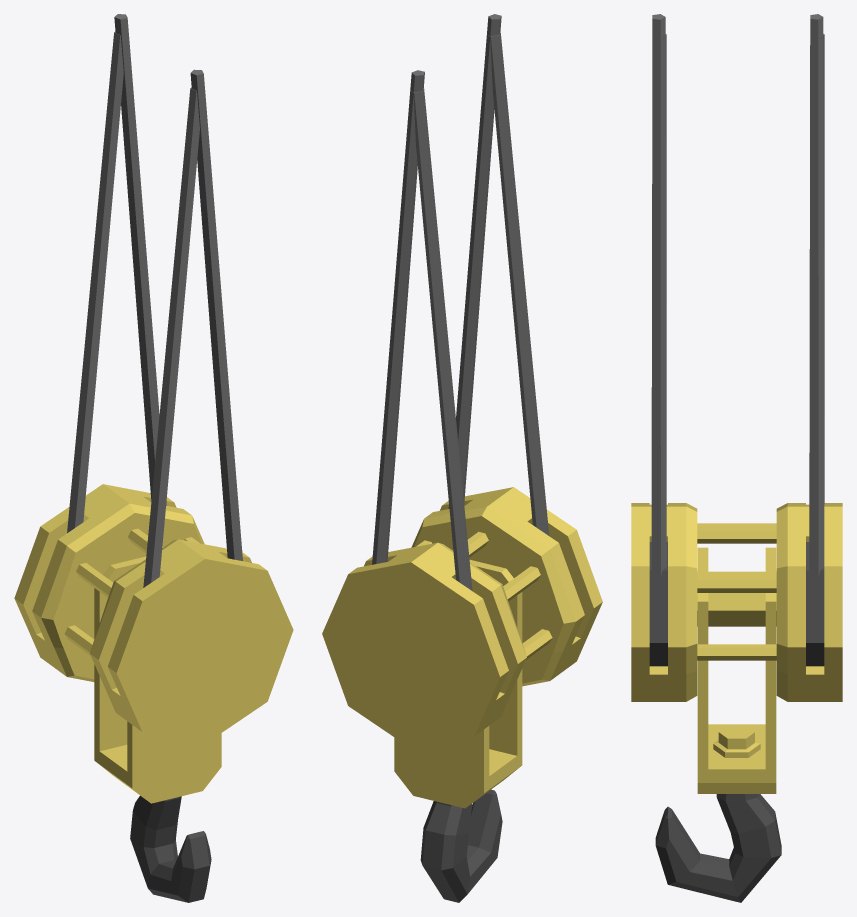
File: Cranehook.fbx
3 views of the same model, side by side, from view 1: azimuth 30°, elevation 25°; view 2: azimuth 150°, elevation 25°; view 3: azimuth 270°, elevation 25° (orthographic). The views are drawn at different scales.
Visible parts, largest first — view 1: Crane_Cylinder.003; view 2: Crane_Cylinder.003; view 3: Crane_Cylinder.003.
Boxes of the visible parts, bbox=[...] form: Crane_Cylinder.003: bbox=[14, 14, 293, 902]; Crane_Cylinder.003: bbox=[322, 14, 602, 902]; Crane_Cylinder.003: bbox=[631, 14, 842, 902].
Bounding box in the file's own units: 86.61 × 398 × 86.61.
